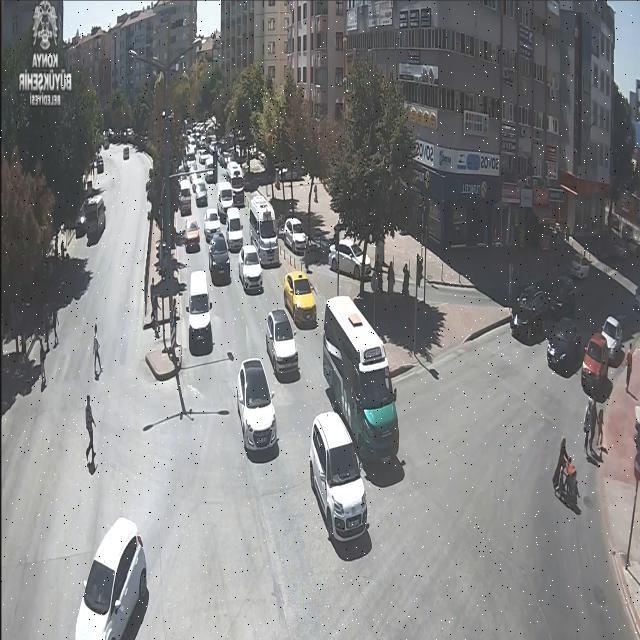Bus: (324, 298, 400, 459), (249, 195, 279, 264), (77, 194, 105, 239)
Car: (75, 518, 149, 640), (309, 414, 367, 541), (235, 359, 277, 453), (510, 284, 555, 343), (265, 311, 299, 377), (547, 320, 585, 378), (188, 271, 212, 353), (582, 331, 612, 395), (283, 271, 317, 327), (329, 238, 373, 278), (608, 297, 640, 344), (541, 275, 578, 315), (597, 316, 625, 363), (238, 245, 264, 292), (208, 232, 231, 281), (283, 217, 308, 253), (224, 207, 244, 250), (202, 207, 222, 243), (227, 161, 245, 199), (216, 181, 235, 215), (182, 218, 200, 252), (178, 178, 194, 213), (570, 254, 591, 278), (192, 177, 208, 208), (277, 163, 304, 181), (607, 236, 628, 259), (74, 210, 88, 238), (199, 153, 214, 174), (204, 162, 216, 183), (96, 155, 104, 173), (123, 146, 129, 160)
